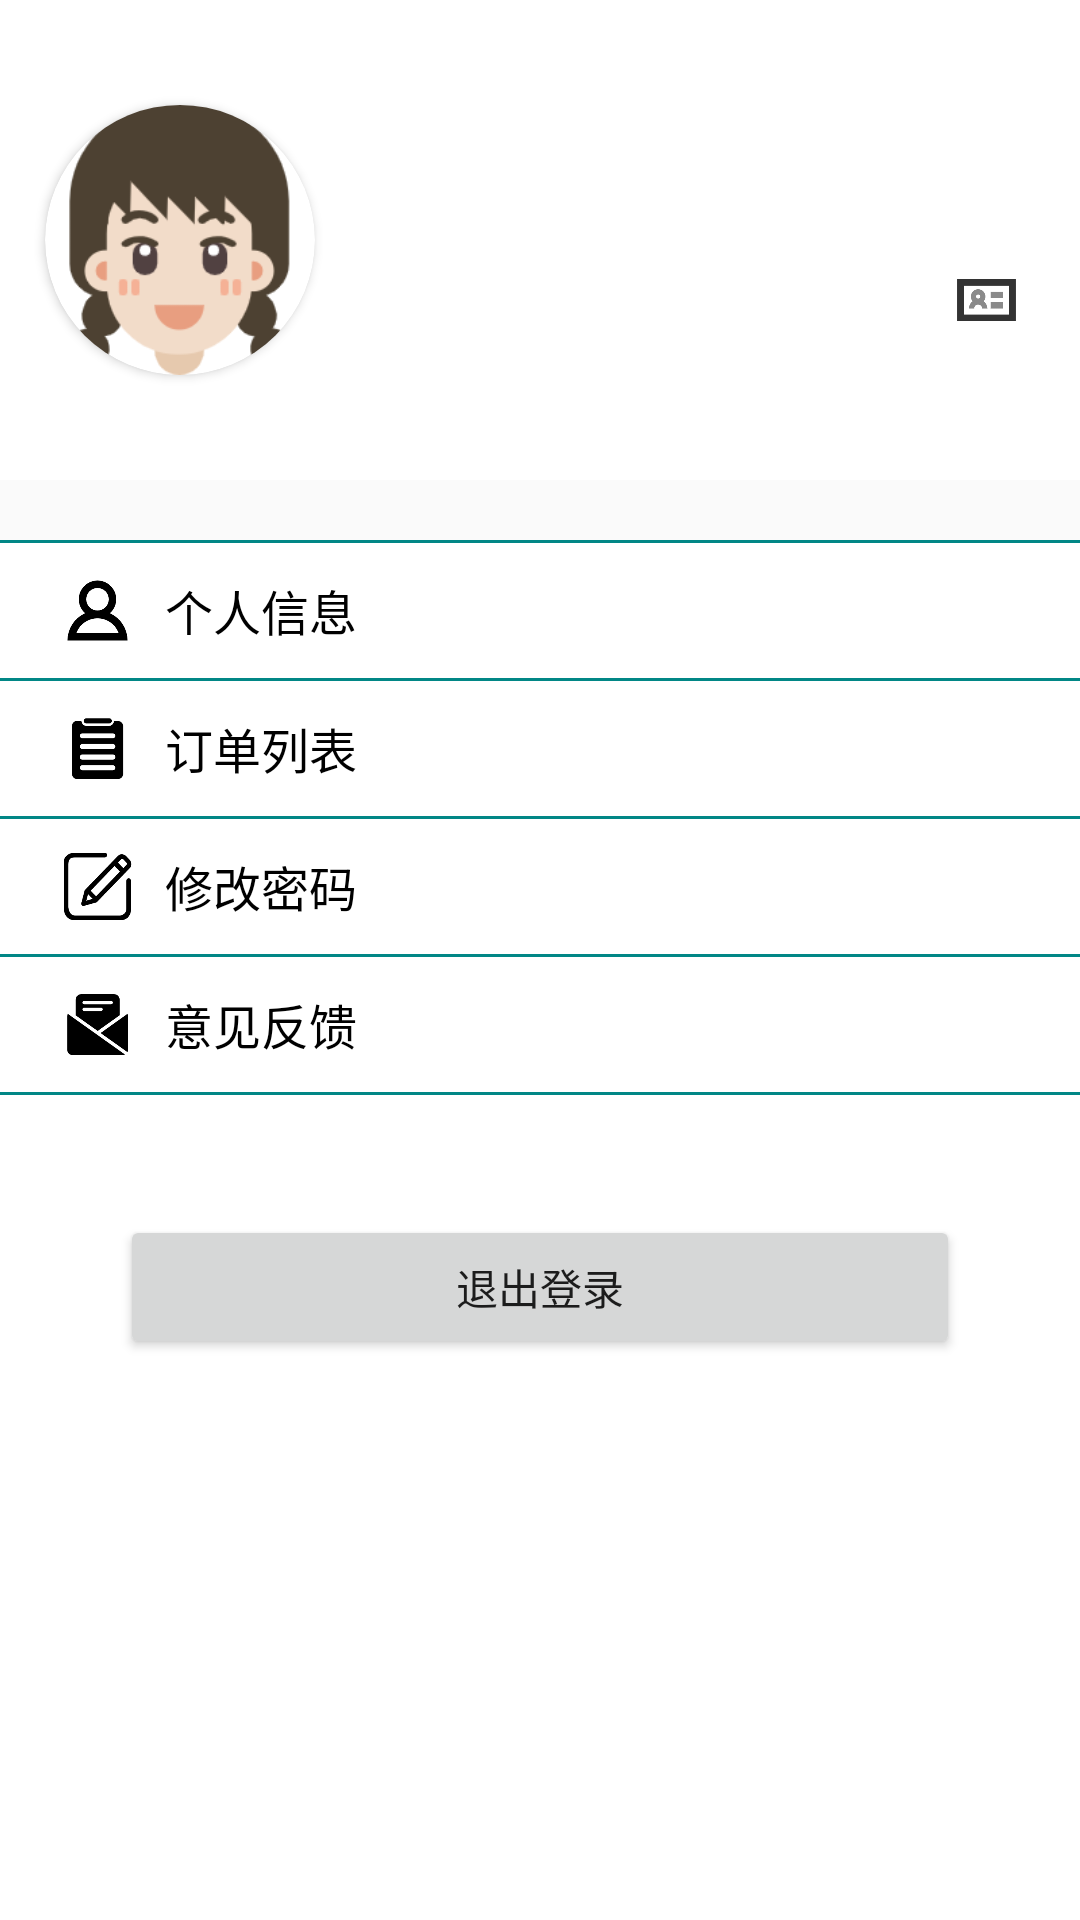

Screen size 1080px x 1920px. Icon name, then its box in pixels as (x1, y1, x2, y2):
avatartemp: (45, 105, 290, 375)
changepwd: (64, 853, 132, 920)
feed: (67, 994, 128, 1055)
order: (72, 718, 123, 779)
userid: (957, 279, 1016, 321)
userinfo: (67, 580, 128, 641)
